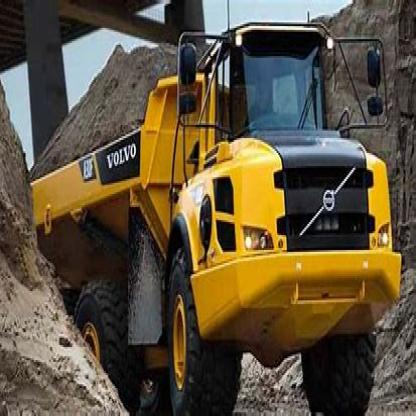dump_truck: (22, 6, 402, 414)
